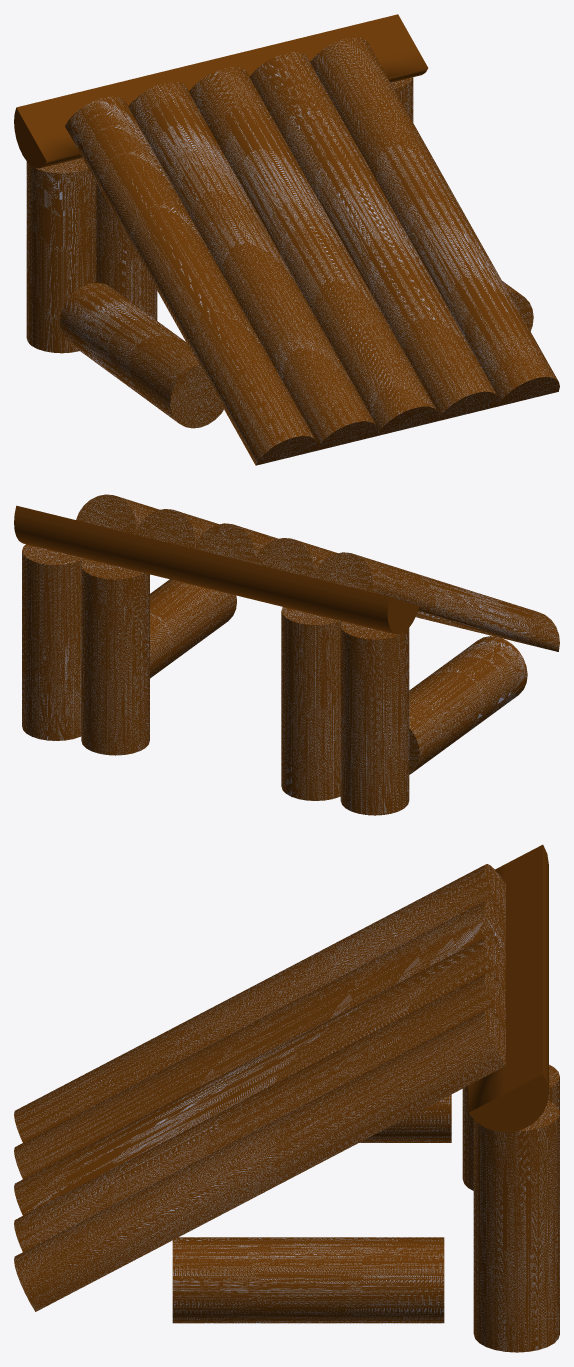
Rendered from tribal_shack_step3.dae.
The picture shows the model from 3 angles, top to bottom: view 1: azimuth 30°, elevation 25°; view 2: azimuth 150°, elevation 25°; view 3: azimuth 270°, elevation 25°; orthographic projection. The views are drawn at different scales.
Parts seen in each view (by area): view 1: SketchUp (×5); view 2: SketchUp (×6); view 3: SketchUp (×6).
Part boxes in pixels (<box>): SketchUp (×5): <box>14,14,559,465</box>; SketchUp (×6): <box>14,494,559,815</box>; SketchUp (×6): <box>14,844,559,1352</box>.
Size of the model in its own units: 75.6 by 76.02 by 45.22.
